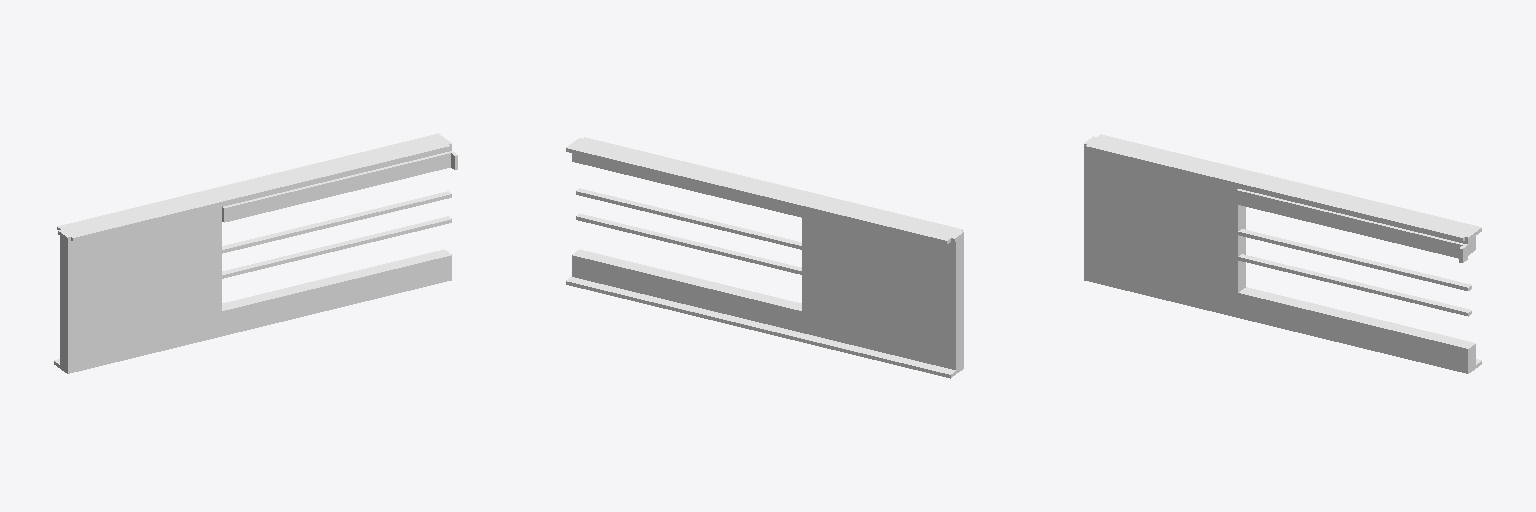
The model's file is modern:wall-large-window.obj.
The picture shows the model from 3 angles: view 1: azimuth 30°, elevation 25°; view 2: azimuth 150°, elevation 25°; view 3: azimuth 330°, elevation 25°; orthographic projection.
Visible parts, largest first — view 1: modern:wall-large-window; view 2: modern:wall-large-window; view 3: modern:wall-large-window.
Boxes of the visible parts, x1=… form: modern:wall-large-window: x1=54, y1=133, x2=457, y2=373; modern:wall-large-window: x1=566, y1=137, x2=963, y2=378; modern:wall-large-window: x1=1084, y1=134, x2=1481, y2=373.
Size of the model in its own units: 112 by 38 by 10.